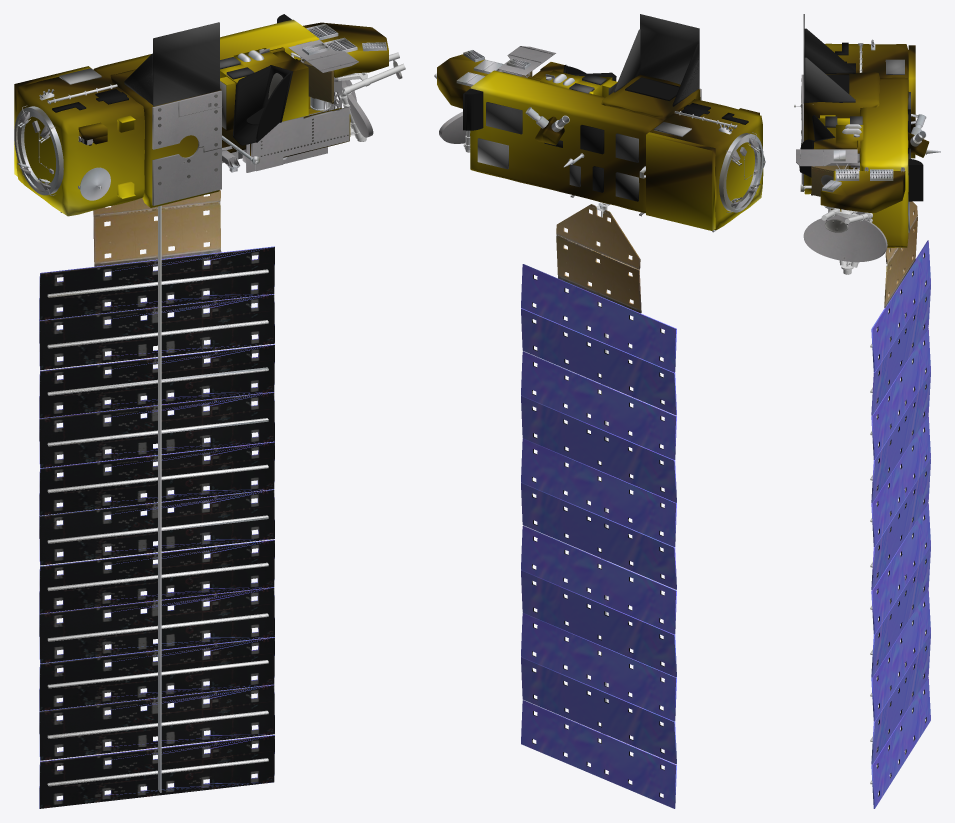
The model's file is Aura (B).glb.
The picture shows the model from 3 angles, left to right: view 1: azimuth 30°, elevation 25°; view 2: azimuth 150°, elevation 25°; view 3: azimuth 270°, elevation 25°; orthographic projection. The views are drawn at different scales.
Parts seen in each view (by area): view 1: tex_01b, foil_gold, tex_01c, shiny_panel, tex_01, foil_silver, black_krinkle, tex_01d; view 2: shiny_panel, foil_gold, foil_silver, tex_01b, black_krinkle, tex_01, tex_01c; view 3: shiny_panel, foil_gold, tex_01, foil_silver, tex_01b, black_krinkle, tex_01d, tex_01c.
Part boxes in pixels (bbox=[...]): tex_01b: bbox=[39, 91, 339, 808]; foil_gold: bbox=[14, 19, 388, 216]; tex_01c: bbox=[14, 81, 238, 212]; shiny_panel: bbox=[39, 246, 274, 808]; tex_01: bbox=[222, 23, 402, 172]; foil_silver: bbox=[59, 22, 254, 106]; black_krinkle: bbox=[52, 14, 293, 145]; tex_01d: bbox=[290, 52, 405, 141]; shiny_panel: bbox=[521, 264, 676, 808]; foil_gold: bbox=[437, 54, 763, 230]; foil_silver: bbox=[477, 14, 699, 201]; tex_01b: bbox=[532, 202, 664, 798]; black_krinkle: bbox=[463, 65, 748, 192]; tex_01: bbox=[439, 46, 574, 195]; tex_01c: bbox=[559, 83, 765, 232]; shiny_panel: bbox=[871, 240, 930, 808]; foil_gold: bbox=[804, 43, 929, 247]; tex_01: bbox=[796, 115, 926, 262]; foil_silver: bbox=[803, 14, 910, 232]; tex_01b: bbox=[856, 201, 926, 796]; black_krinkle: bbox=[799, 42, 923, 201]; tex_01d: bbox=[813, 163, 872, 274]; tex_01c: bbox=[794, 39, 940, 191].
Bounding box in the file's own units: 8.73 × 18.7 × 3.43.
Materials: 6 (4 with a texture image).
